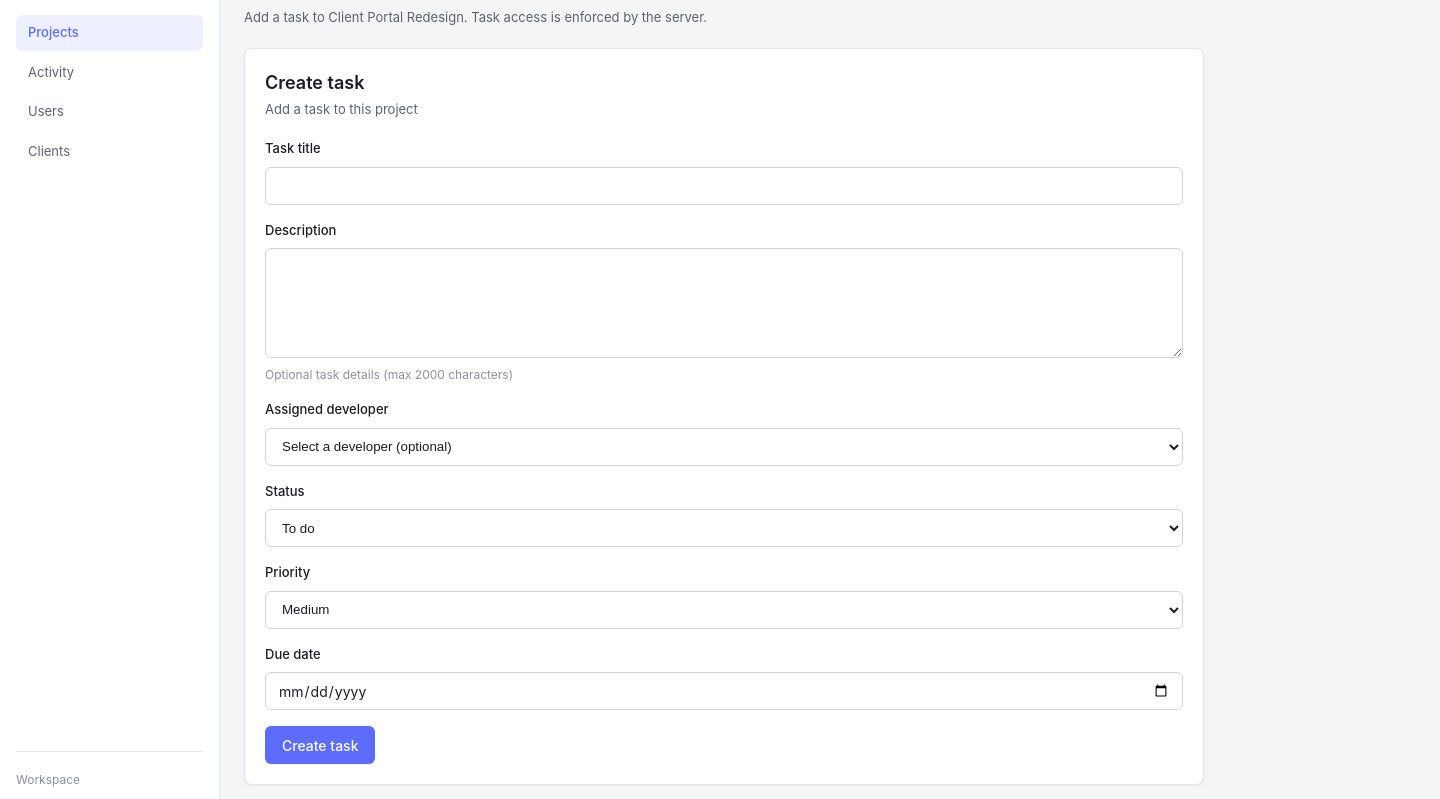
Test: Task management UI › validates required fields on task creation form
(page scrolled)
Expected: the field labelled "Task title" is shown, top-left (265, 166), bottom-right (1183, 204)
Click the button "Create task" at (320, 745), box top-left (265, 726), bottom-right (376, 764)
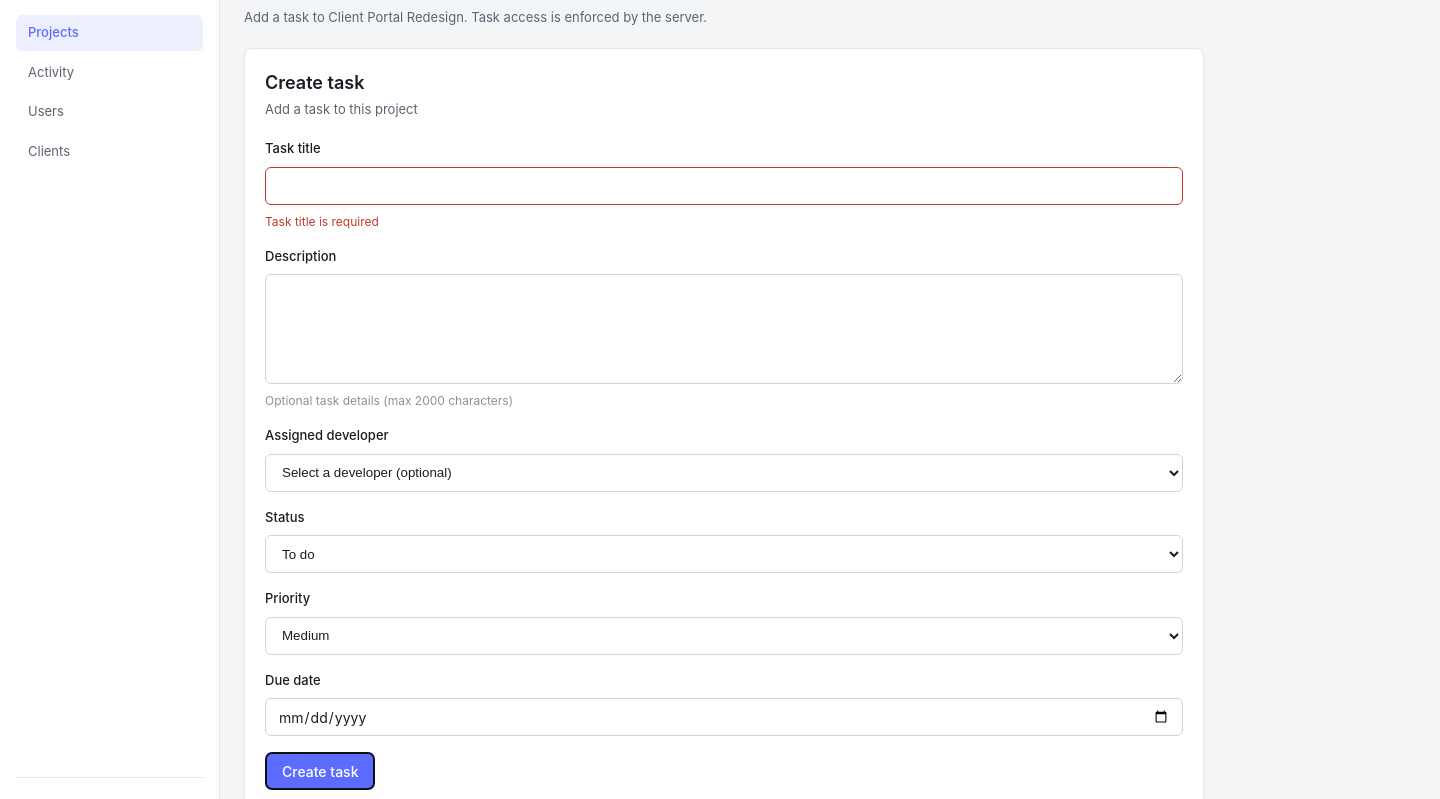
Result: the text "Task title is required" is shown at top-left (265, 214), bottom-right (379, 228)
